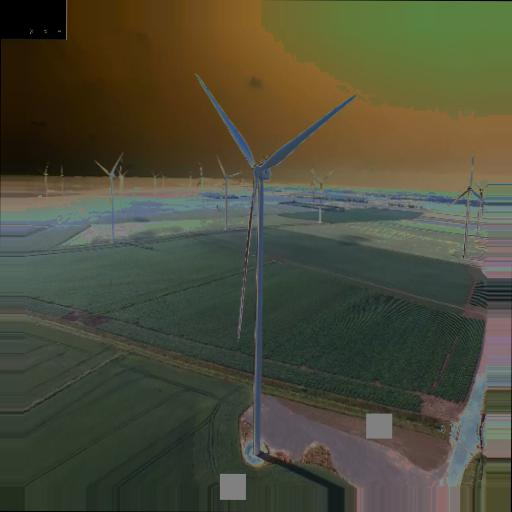wind turbine: (191, 68, 360, 449), (451, 154, 486, 259), (93, 150, 125, 241), (211, 158, 241, 230)
